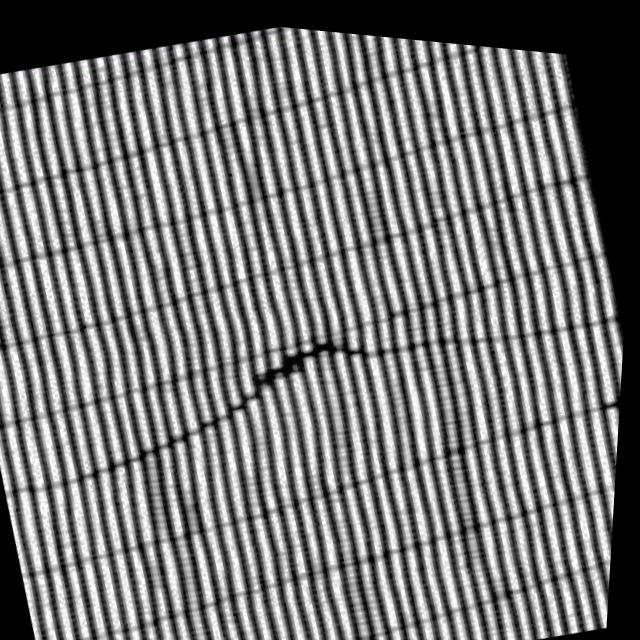Stitch: (100, 248, 498, 498)
